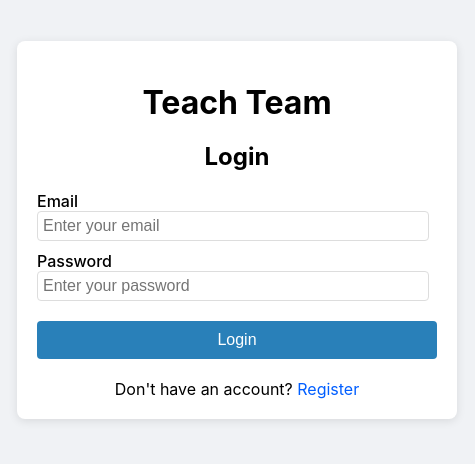
Test: Login Page › should show error when password is empty
In the field labelled "Email": [233, 226] box [37,211,429,241], type "test@example.com"
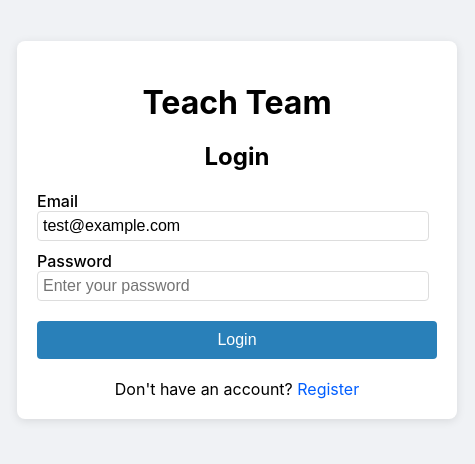
Click the button "Login": [237, 340] box [37,321,437,359]
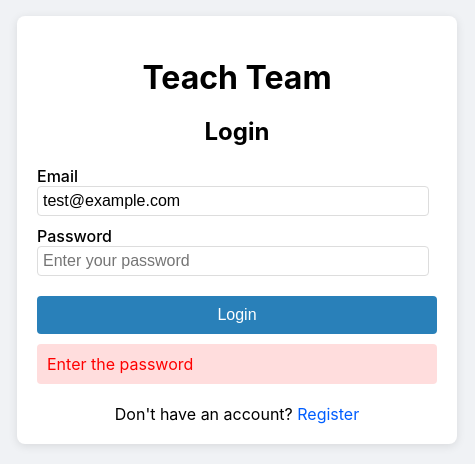
Check: the text "Enter the password" is shown, box [37,344,437,384]
